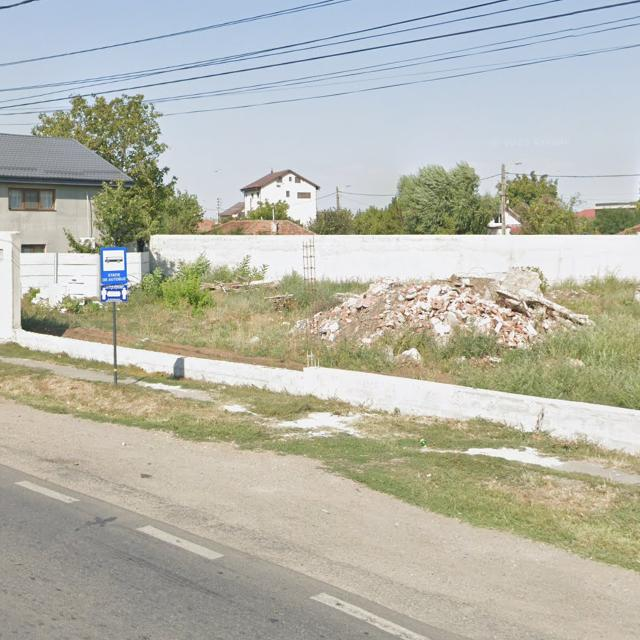info_bus_station: (100, 247, 128, 286)
